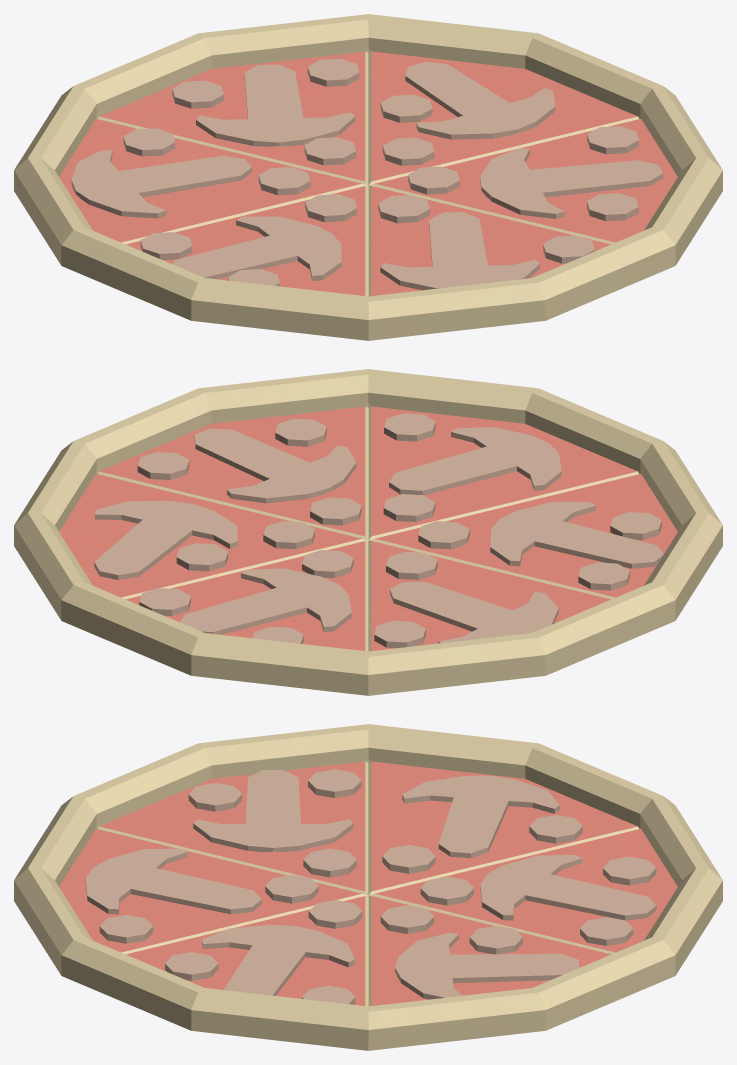
The model's file is pizza-mushrooms.glb.
3 views of the same model, one above another, from view 1: azimuth 30°, elevation 25°; view 2: azimuth 150°, elevation 25°; view 3: azimuth 270°, elevation 25° (orthographic).
Visible parts, largest first — view 1: PizzaMushrooms.001; view 2: PizzaMushrooms.001; view 3: PizzaMushrooms.001.
Part boxes in pixels (<box>): PizzaMushrooms.001: <box>14,14,722,340</box>; PizzaMushrooms.001: <box>14,369,722,695</box>; PizzaMushrooms.001: <box>14,724,722,1050</box>.
Size of the model in its own units: 0.596 by 0.0307 by 0.596.
1 material, 1 textured.
